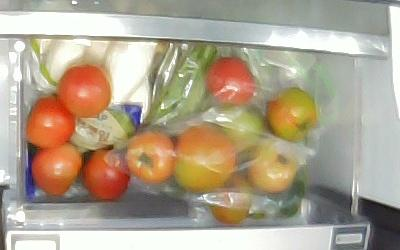tomato: (58, 65, 111, 118), (31, 142, 82, 195), (267, 86, 317, 140), (26, 95, 76, 147), (82, 148, 130, 202)
tomato_vinyl: (176, 121, 238, 192), (126, 132, 175, 184), (206, 55, 256, 102), (211, 173, 252, 224), (247, 150, 296, 191)
